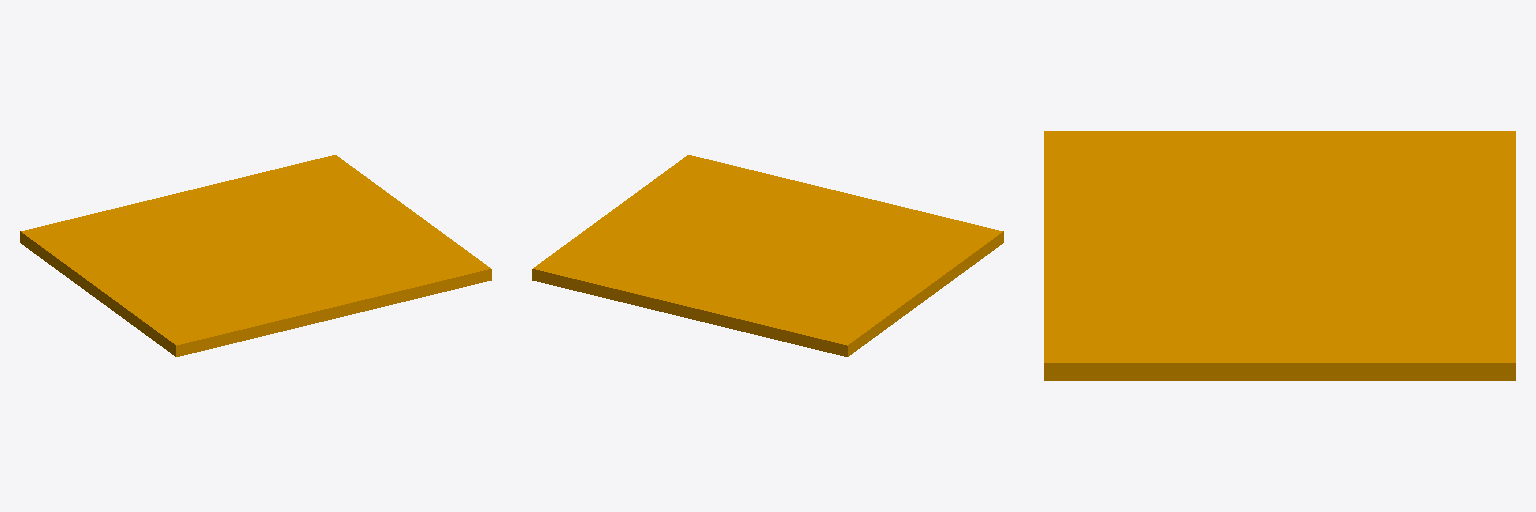
The robot description file, URDF, robot "table":
<robot name="table">
  <link name="table">

    <!-- rosrun gazebo_ros spawn_model -file $(rospack find ur5_single_arm_tufts)/urdf/objects/table.urdf -urdf -x 0.5 -y -0 -z 0.75 -model table -->
    
    <inertial>
      <origin xyz="0.23 0 0.755" rpy="0 0 0" />
      <mass value="1"/>
      <inertia
        ixx="0.07" ixy="0.0" ixz="0.0"
        iyy="0.40" iyz="0.0"
        izz="0.33"/>
    </inertial>

    <visual>
      <geometry>
        <box size="1.4 1.2 0.05"/>
      </geometry>
    </visual>

    <collision>
      <geometry>
        <box size="1.4 1.2 0.05"/>
      </geometry>
    </collision>

  </link>

  <gazebo reference="table">
    <material>Gazebo/Wood</material>
  </gazebo> 

  <gazebo>
    <static>true</static>
  </gazebo>

</robot>

--- What the picture shows (computed from the rendered views, not written in the file) ---
3 views of the same robot in one strip: view 1: azimuth 30°, elevation 25°; view 2: azimuth 150°, elevation 25°; view 3: azimuth 270°, elevation 25° (orthographic).
Model table with 1 links and 0 joints (none), rooted at table, posed every joint at zero.
Links seen in each view (by area): view 1: table; view 2: table; view 3: table.
Boxes of the visible links, x1,y1,x2,y2 form: table: [20, 155, 491, 356]; table: [532, 155, 1003, 356]; table: [1044, 131, 1515, 380].
Size in the robot's own frame: 1.4 by 1.2 by 0.05 metres.
Geometry: primitives only (box / cylinder / sphere), no mesh files.
